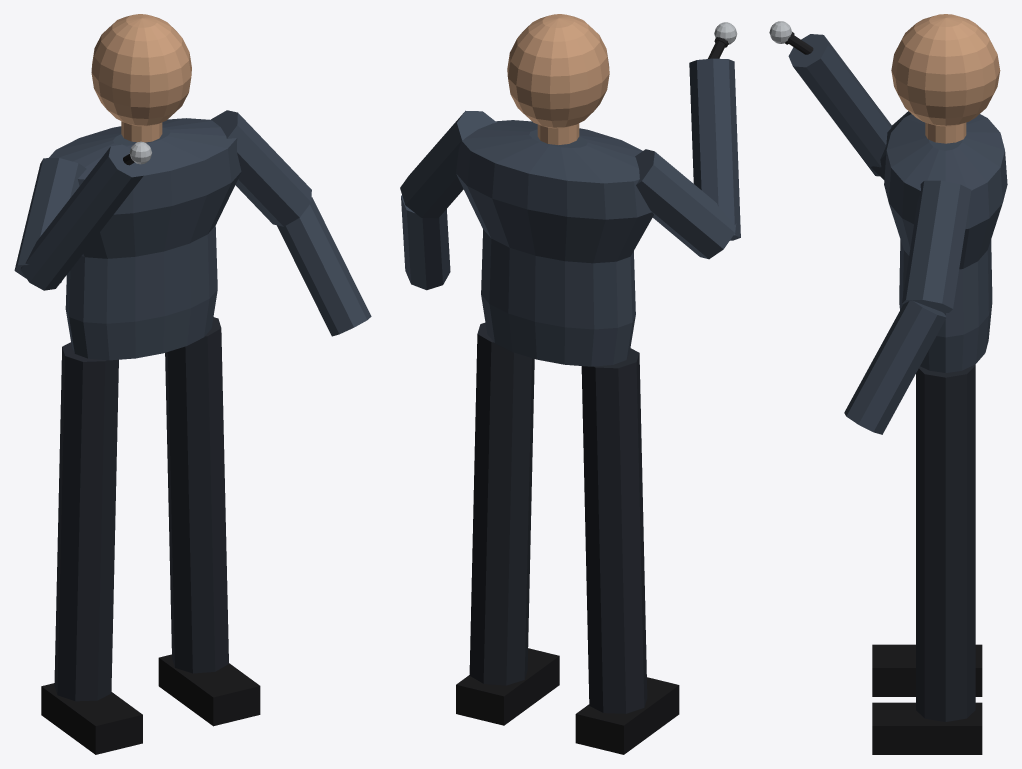
File: figure-singer.glb
The picture shows the model from 3 angles, left to right: view 1: azimuth 30°, elevation 25°; view 2: azimuth 150°, elevation 25°; view 3: azimuth 270°, elevation 25°; orthographic projection.
Visible parts, largest first — view 1: figure-legs, figure-torso, figure-sleeves, figure-skin, figure-shoes; view 2: figure-legs, figure-torso, figure-sleeves, figure-skin, figure-shoes; view 3: figure-legs, figure-sleeves, figure-torso, figure-skin, figure-shoes.
Part boxes in pixels (x1=…): figure-legs: x1=54, y1=317, x2=228, y2=701; figure-torso: x1=49, y1=118, x2=241, y2=360; figure-sleeves: x1=14, y1=110, x2=371, y2=336; figure-skin: x1=91, y1=14, x2=191, y2=142; figure-shoes: x1=41, y1=654, x2=260, y2=754; figure-legs: x1=469, y1=323, x2=647, y2=713; figure-torso: x1=456, y1=120, x2=653, y2=366; figure-sleeves: x1=400, y1=58, x2=740, y2=290; figure-skin: x1=507, y1=14, x2=609, y2=144; figure-shoes: x1=456, y1=648, x2=679, y2=754; figure-legs: x1=916, y1=364, x2=975, y2=721; figure-sleeves: x1=788, y1=34, x2=971, y2=434; figure-torso: x1=884, y1=114, x2=1007, y2=372; figure-skin: x1=891, y1=14, x2=1000, y2=143; figure-shoes: x1=872, y1=644, x2=982, y2=754.
Bounding box in the file's own units: 0.8526 × 1.68 × 0.5196.
